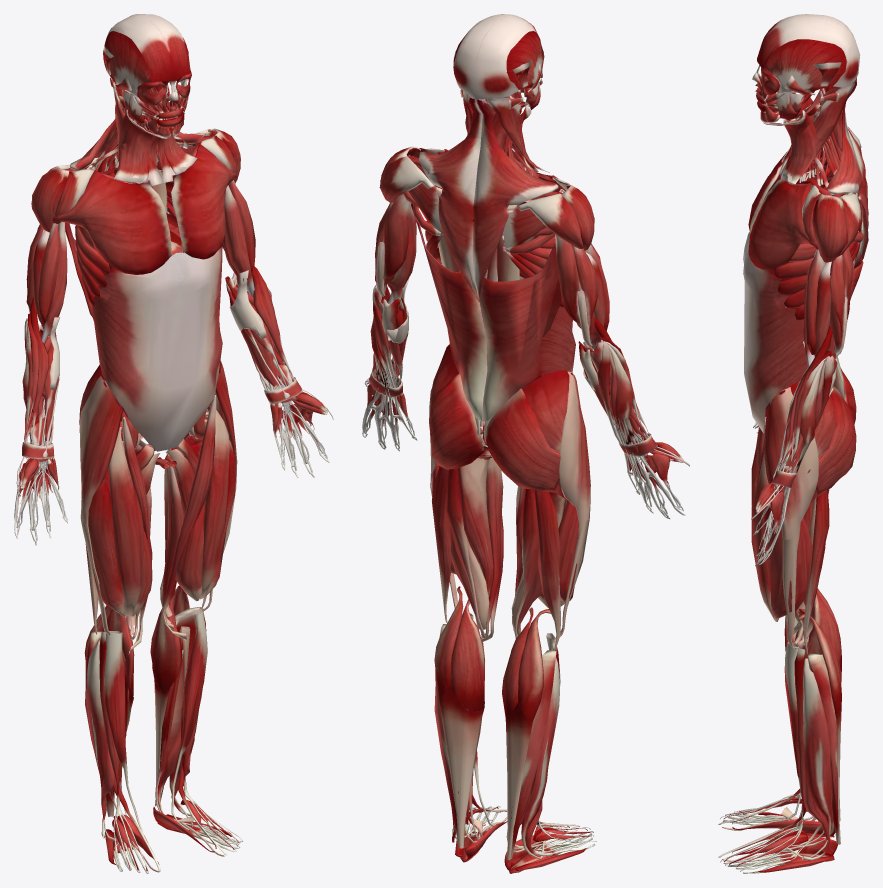
Rendered from muscular_system.glb.
3 views of the same model, side by side, from view 1: azimuth 30°, elevation 25°; view 2: azimuth 150°, elevation 25°; view 3: azimuth 270°, elevation 25° (orthographic). The views are drawn at different scales.
Visible parts, largest first — view 1: external_oblique_01, R_pectoralis_major, L_pectoralis_major, R_tensor_fasciae_latae, R_rectus_femoris, frontalis, L_rectus_femoris, R_vastus_lateralis, L_sartorius, R_tibialis_anterior, R_deltoit, L_tibialis_anterior (+36 smaller); view 2: R_latissimus_dorsi, R_trapezius, L_trapezius, R_gluteus_maximus, L_latissimus_dorsi, frontalis, R_tensor_fasciae_latae, L_gluteus_maximus, L_calcaneofibular_achilles_tendon, L_adductor_magnus, R_deltoit, L_gastrocnemius_medial_head (+36 smaller); view 3: external_oblique_01, L_tensor_fasciae_latae, L_pectoralis_major, L_peroneus_longus, L_deltoit, frontalis, L_temporalis, L_vastus_lateralis, L_gluteus_maximus, L_serratus_anterior, L_trapezius, L_extensor_digitorum (+40 smaller).
Part boxes in pixels (left/top/right/bottom): external_oblique_01: left=91, top=246, right=222, bottom=451; R_pectoralis_major: left=52, top=170, right=171, bottom=274; L_pectoralis_major: left=171, top=144, right=236, bottom=259; R_tensor_fasciae_latae: left=79, top=376, right=123, bottom=634; R_rectus_femoris: left=108, top=427, right=144, bottom=616; frontalis: left=103, top=14, right=189, bottom=81; L_rectus_femoris: left=199, top=405, right=229, bottom=599; R_vastus_lateralis: left=88, top=479, right=125, bottom=616; L_sartorius: left=161, top=395, right=216, bottom=640; R_tibialis_anterior: left=104, top=631, right=143, bottom=833; R_deltoit: left=31, top=164, right=94, bottom=232; L_tibialis_anterior: left=171, top=608, right=207, bottom=830; R_latissimus_dorsi: left=479, top=243, right=561, bottom=421; R_trapezius: left=472, top=99, right=558, bottom=301; L_trapezius: left=419, top=98, right=481, bottom=301; R_gluteus_maximus: left=485, top=388, right=566, bottom=499; L_latissimus_dorsi: left=411, top=203, right=487, bottom=421; frontalis: left=453, top=14, right=540, bottom=99; R_tensor_fasciae_latae: left=554, top=371, right=590, bottom=639; L_gluteus_maximus: left=429, top=373, right=485, bottom=469; L_calcaneofibular_achilles_tendon: left=439, top=686, right=484, bottom=848; L_adductor_magnus: left=457, top=458, right=493, bottom=597; R_deltoit: left=517, top=176, right=594, bottom=250; L_gastrocnemius_medial_head: left=449, top=599, right=484, bottom=711; external_oblique_01: left=743, top=232, right=807, bottom=432; L_tensor_fasciae_latae: left=764, top=386, right=818, bottom=648; L_pectoralis_major: left=748, top=178, right=818, bottom=269; L_peroneus_longus: left=785, top=658, right=831, bottom=858; L_deltoit: left=802, top=185, right=861, bottom=263; frontalis: left=757, top=14, right=860, bottom=87; L_temporalis: left=764, top=39, right=847, bottom=93; L_vastus_lateralis: left=764, top=506, right=812, bottom=621; L_gluteus_maximus: left=807, top=386, right=856, bottom=503; L_serratus_anterior: left=773, top=179, right=859, bottom=319; L_trapezius: left=826, top=79, right=868, bottom=259; L_extensor_digitorum: left=753, top=360, right=826, bottom=566.
Bounding box in the file's own units: 0.74 × 1.84 × 0.302.
Materials: 5 (5 with a texture image).
